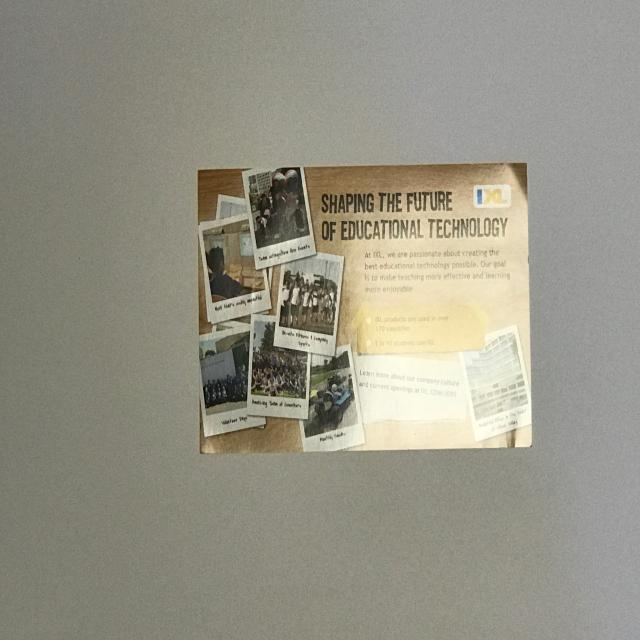paper: (193, 158, 534, 452)
